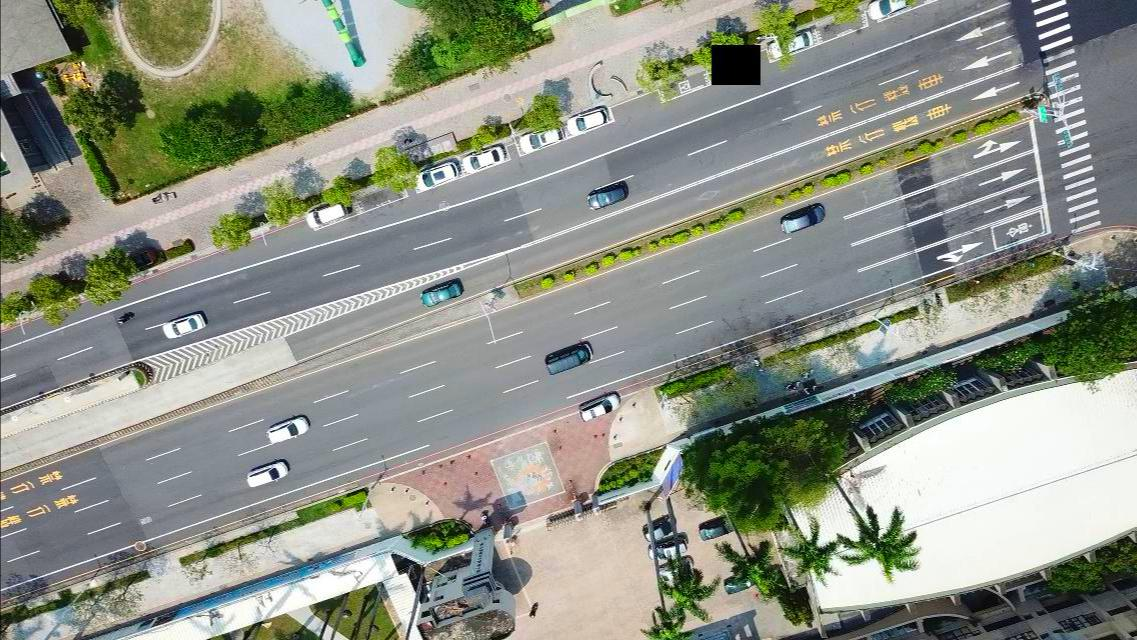vehicle: (545, 341, 592, 375), (518, 123, 564, 155), (461, 143, 506, 174), (414, 162, 460, 190), (768, 29, 812, 58), (780, 205, 825, 233), (247, 459, 290, 488), (578, 393, 620, 422), (567, 107, 607, 137), (305, 200, 346, 229), (162, 313, 206, 340), (645, 535, 688, 562), (421, 280, 462, 307), (268, 416, 309, 443), (642, 513, 676, 544), (865, 0, 910, 23), (588, 184, 627, 210), (657, 556, 694, 582), (699, 520, 733, 540), (723, 575, 753, 596)
